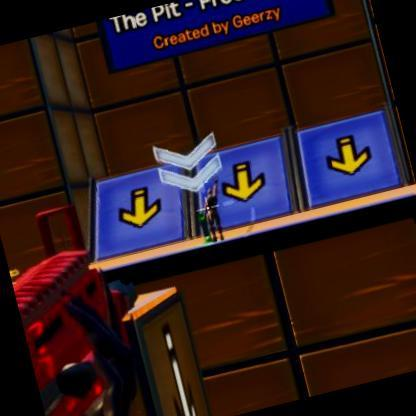person: (202, 183, 231, 242)
